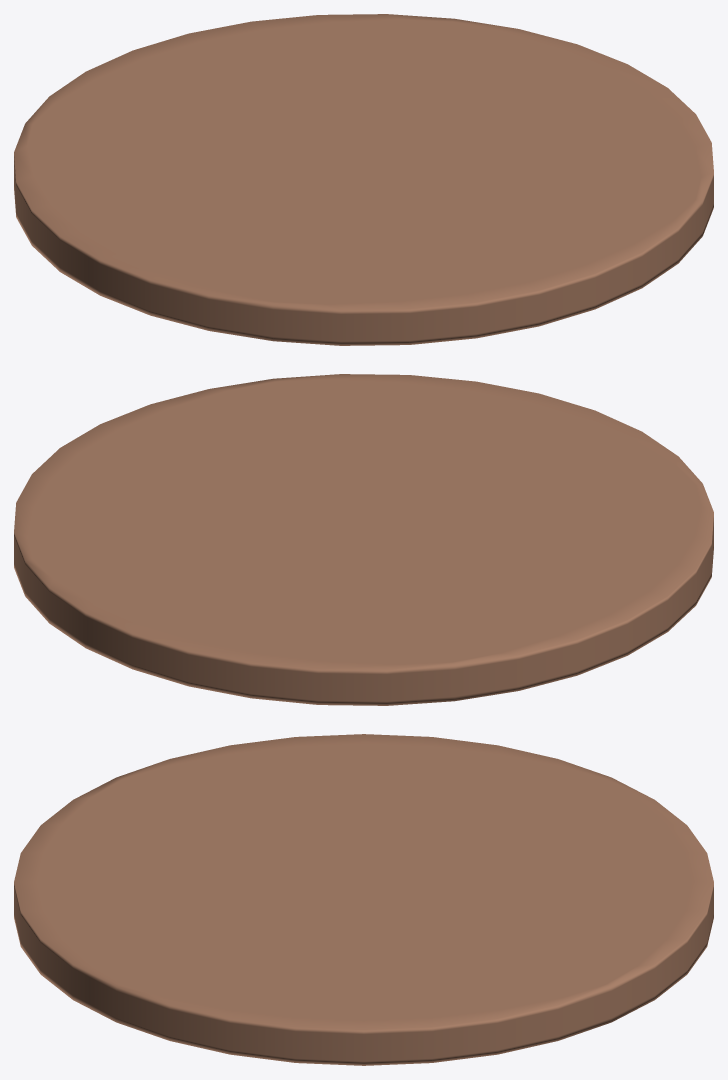
File: pepperoni.fbx
The picture shows the model from 3 angles, top to bottom: view 1: azimuth 30°, elevation 25°; view 2: azimuth 150°, elevation 25°; view 3: azimuth 270°, elevation 25°; orthographic projection.
Visible parts, largest first — view 1: pepperoni; view 2: pepperoni; view 3: pepperoni.
Boxes of the visible parts, x1=… form: pepperoni: x1=14, y1=14, x2=713, y2=345; pepperoni: x1=14, y1=374, x2=713, y2=705; pepperoni: x1=14, y1=734, x2=713, y2=1065.
Bounding box in the file's own units: 687 × 38.96 × 687.
